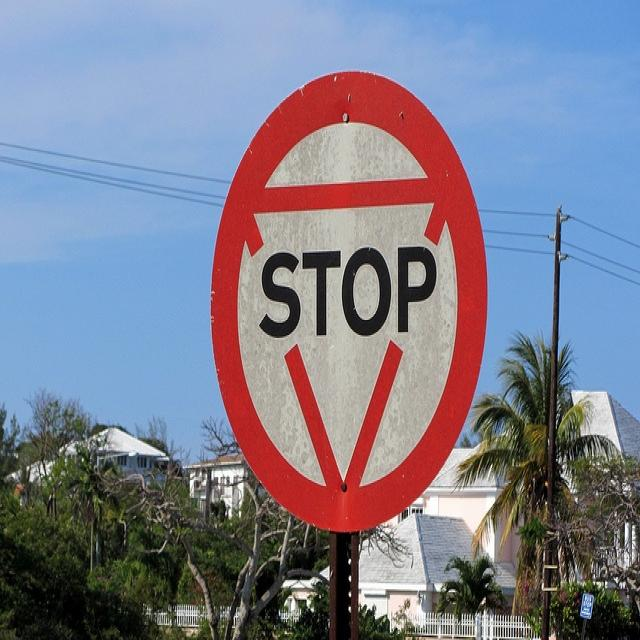pole: (537, 204, 563, 636)
